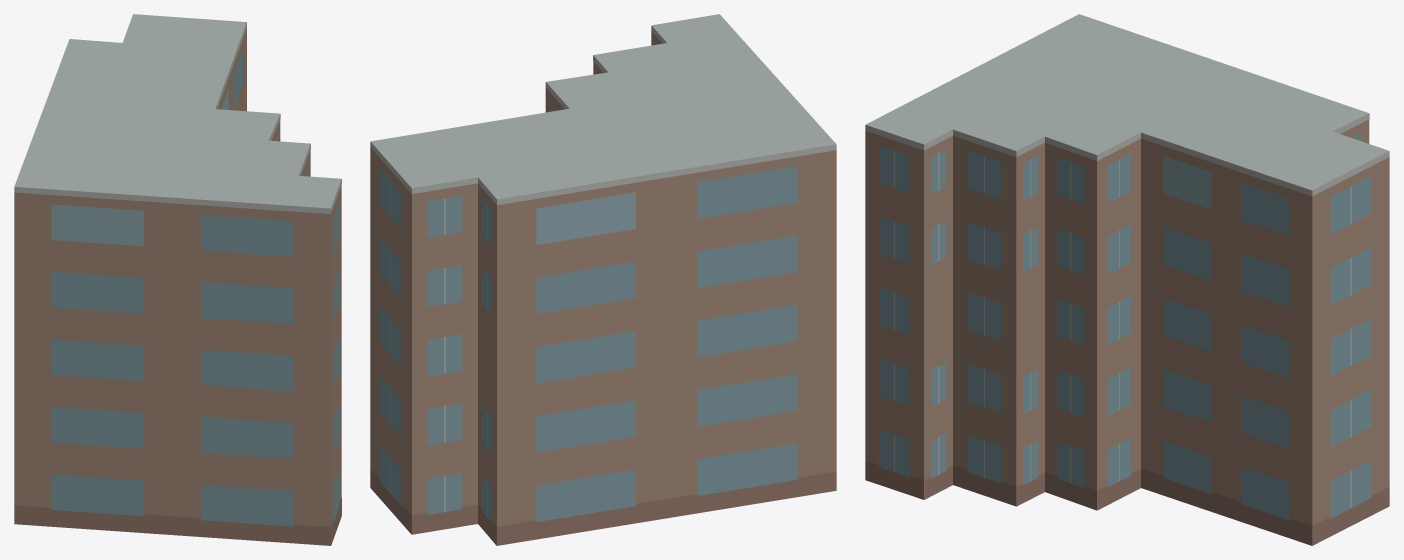
Rendered from survey-upis-32667990.glb.
The picture shows the model from 3 angles, left to right: view 1: azimuth 30°, elevation 25°; view 2: azimuth 150°, elevation 25°; view 3: azimuth 270°, elevation 25°; orthographic projection. The views are drawn at different scales.
Parts seen in each view (by area): view 1: survey-upis-32667990.tmp; view 2: survey-upis-32667990.tmp; view 3: survey-upis-32667990.tmp.
Part boxes in pixels (x1=…): survey-upis-32667990.tmp: x1=14, y1=14, x2=341, y2=545; survey-upis-32667990.tmp: x1=370, y1=14, x2=836, y2=545; survey-upis-32667990.tmp: x1=865, y1=14, x2=1389, y2=545.
Size of the model in its own units: 15.45 by 14.5 by 19.4.
